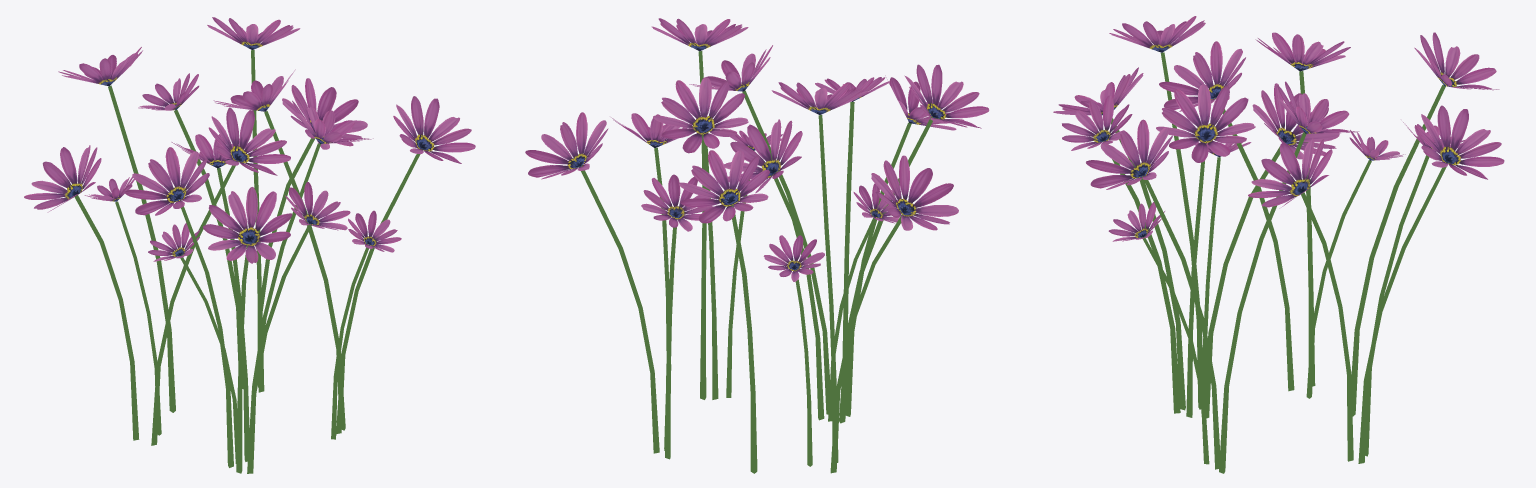
Rendered from MEADOW_SM_Flower_06_03.gltf.
The picture shows the model from 3 angles, left to right: view 1: azimuth 30°, elevation 25°; view 2: azimuth 150°, elevation 25°; view 3: azimuth 270°, elevation 25°; orthographic projection. The views are drawn at different scales.
Visible parts, largest first — view 1: SM_Flower_06_03_LOD0; view 2: SM_Flower_06_03_LOD0; view 3: SM_Flower_06_03_LOD0.
Boxes of the visible parts, x1=… form: SM_Flower_06_03_LOD0: x1=24, y1=17, x2=475, y2=473; SM_Flower_06_03_LOD0: x1=525, y1=18, x2=989, y2=473; SM_Flower_06_03_LOD0: x1=1053, y1=16, x2=1504, y2=473.
Size of the model in its own units: 0.7447 by 0.6475 by 0.7617.
Materials: 1 (1 with a texture image).
